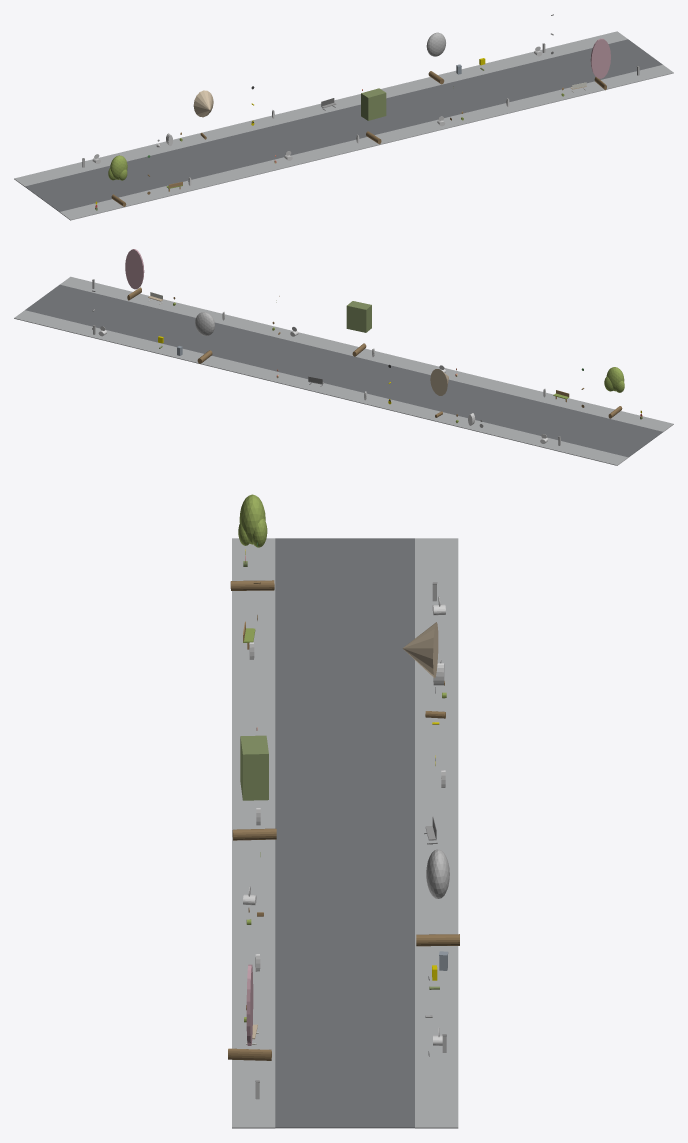
The picture shows the model from 3 angles, top to bottom: view 1: azimuth 30°, elevation 25°; view 2: azimuth 150°, elevation 25°; view 3: azimuth 270°, elevation 25°; orthographic projection. The views are drawn at different scales.
Visible parts, largest first — view 1: road_slab, sidewalk_left, sidewalk_right, inst_0014, inst_0016, inst_0012, inst_0015, inst_0013; view 2: road_slab, sidewalk_right, sidewalk_left, inst_0014, inst_0016, inst_0012, inst_0015, inst_0013; view 3: road_slab, sidewalk_right, sidewalk_left, inst_0014, inst_0012, inst_0015, inst_0013, inst_0016.
Boxes of the visible parts, left/top/right/bottom form: road_slab: left=25, top=39, right=662, bottom=211; sidewalk_left: left=59, top=65, right=673, bottom=220; sidewalk_right: left=14, top=31, right=627, bottom=186; inst_0014: left=361, top=88, right=386, bottom=144; inst_0016: left=590, top=38, right=610, bottom=90; inst_0012: left=108, top=155, right=127, bottom=206; inst_0015: left=426, top=32, right=445, bottom=84; inst_0013: left=193, top=90, right=213, bottom=139; road_slab: left=25, top=284, right=662, bottom=457; sidewalk_right: left=14, top=310, right=628, bottom=465; sidewalk_left: left=60, top=276, right=673, bottom=432; inst_0014: left=346, top=301, right=371, bottom=356; inst_0016: left=125, top=249, right=144, bottom=300; inst_0012: left=604, top=367, right=624, bottom=418; inst_0015: left=195, top=312, right=214, bottom=363; inst_0013: left=430, top=369, right=448, bottom=417; road_slab: left=275, top=538, right=414, bottom=1128; sidewalk_right: left=415, top=538, right=458, bottom=1128; sidewalk_left: left=232, top=538, right=275, bottom=1128; inst_0014: left=232, top=735, right=276, bottom=840; inst_0012: left=230, top=494, right=274, bottom=590; inst_0015: left=416, top=849, right=459, bottom=946; inst_0013: left=402, top=622, right=445, bottom=718; inst_0016: left=228, top=964, right=271, bottom=1060.
Size of the model in its own units: 80 by 6.08 by 13.32.
